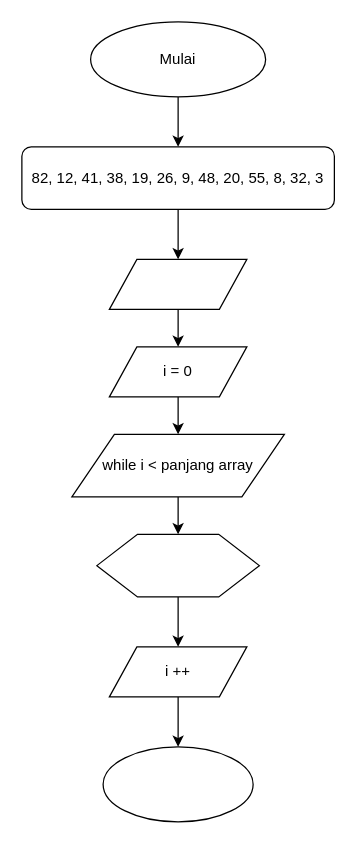
Some shapes in this 356 by 844 pixel diagram are drawn without their labels. Each missing label, with the centre of its shape:
"hasil += angka[i]" belongs at (177,565).
"hasil = 0" belongs at (177,283).
"Selesai" belongs at (177,784).
